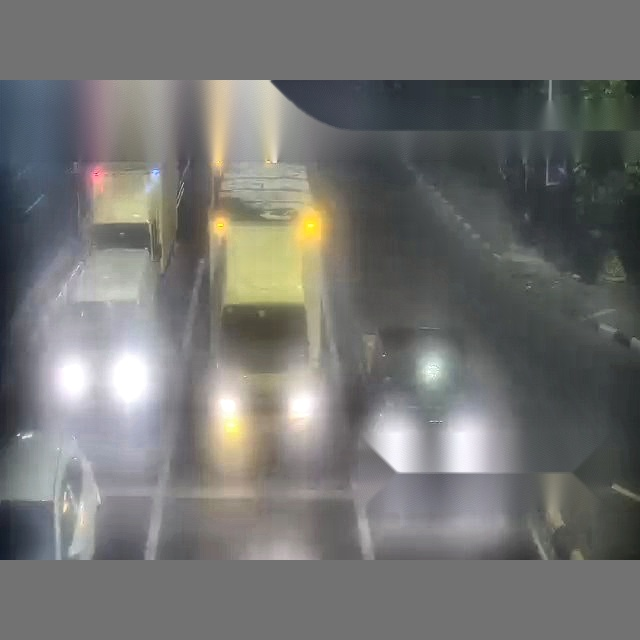Truk: (205, 80, 340, 494), (84, 78, 196, 274)
